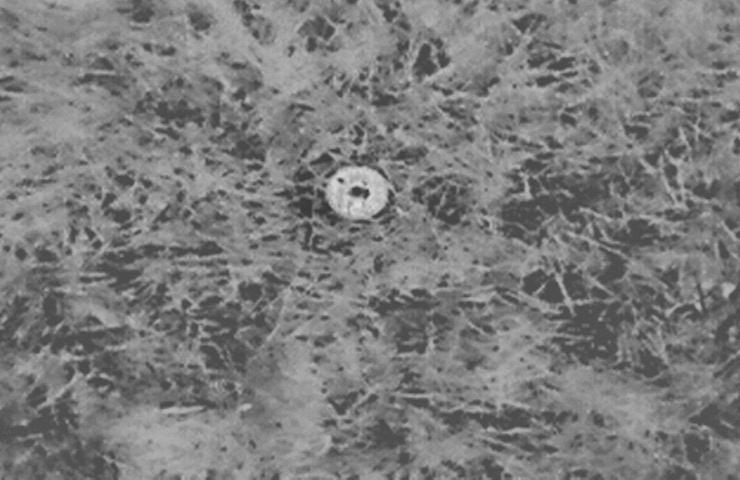landmines: (321, 159, 399, 228)
